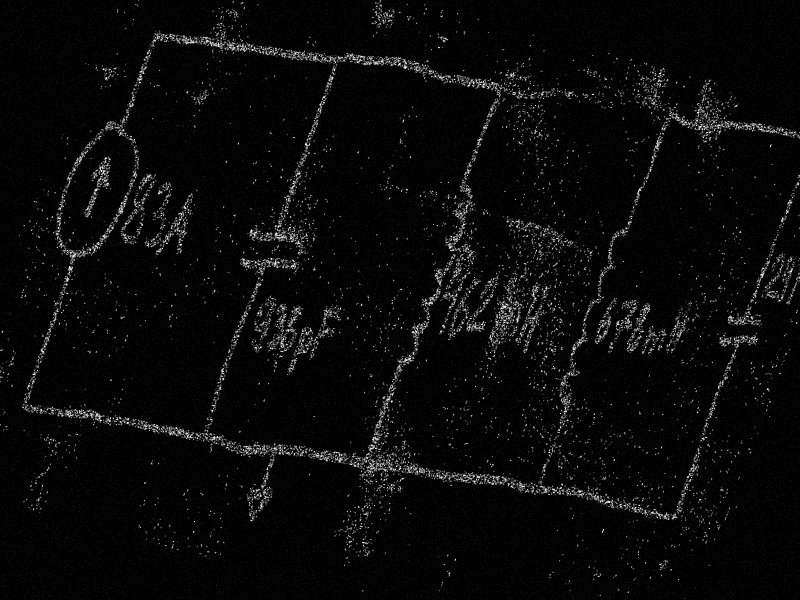2: (463, 272, 505, 339), (758, 249, 790, 302)
3: (135, 179, 182, 253), (260, 298, 295, 356)
4: (427, 260, 471, 339)
6: (441, 270, 485, 346), (589, 294, 622, 350)
7: (600, 294, 642, 360)
8: (114, 168, 163, 250), (274, 299, 310, 358), (621, 298, 655, 358)
9: (239, 290, 283, 359), (770, 253, 800, 306)
A: (155, 184, 207, 261)
F: (304, 303, 344, 366), (783, 253, 800, 311)
H: (508, 282, 553, 357), (660, 302, 694, 358)
m: (484, 296, 528, 347), (635, 322, 670, 363)
p: (281, 324, 318, 383)
